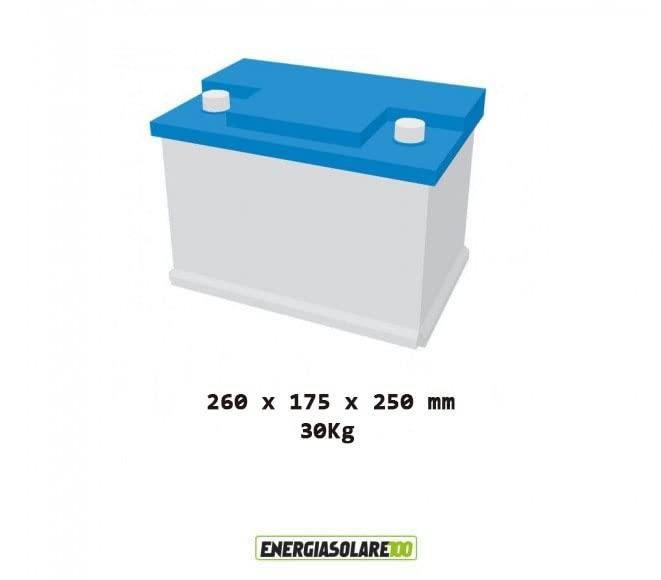175: (290, 394, 330, 410)
250: (374, 394, 414, 410)
260: (207, 393, 248, 410)
30Kg: (301, 423, 355, 444)
mm: (428, 397, 455, 410)
x: (262, 397, 275, 410), (345, 397, 358, 410)
